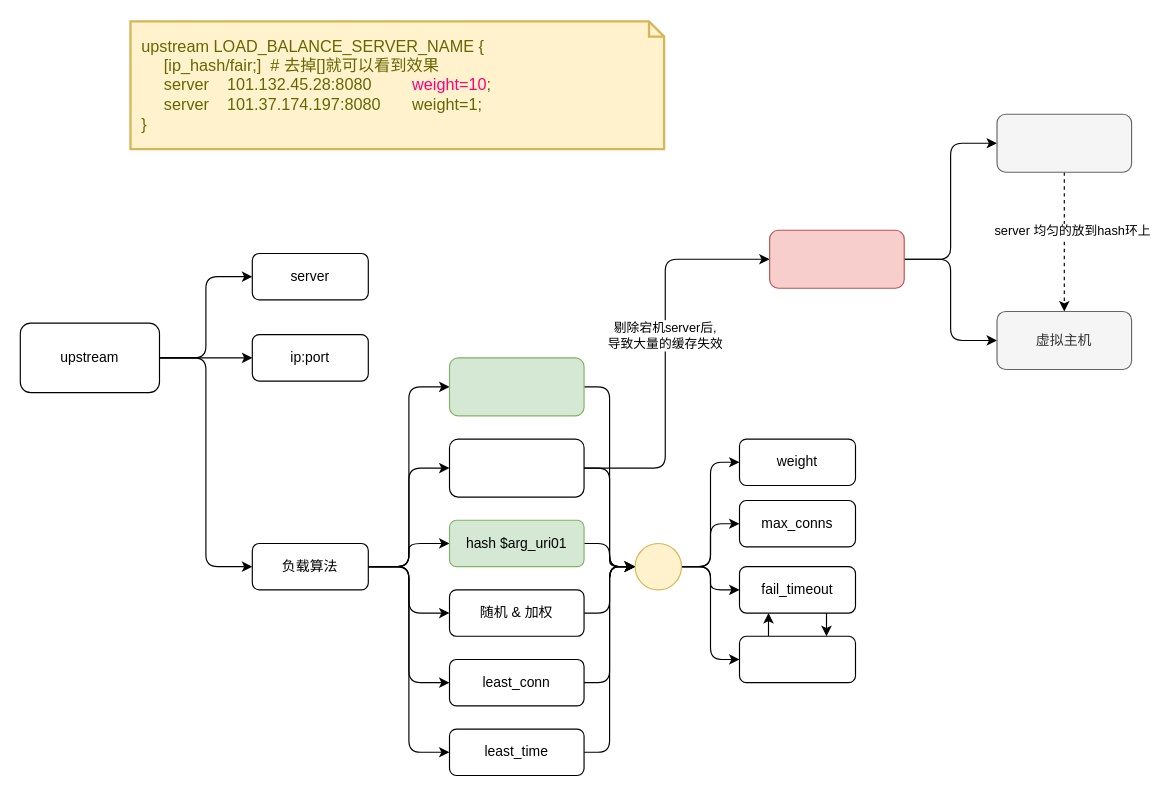
Some shapes in this 1169 by 796 pixel diagram are drawn without their labels. The shapes that lost their labels are listed below. From the top down, each one's centre as x and y in pixels, then its label:
point (1064, 142): hash 环: 0~2^32
point (836, 258): Hash 一致性算法
point (516, 386): 轮询 & 加权
point (516, 467): ip_hash 很少使用: 数据倾斜
point (658, 566): 配合
point (796, 659): max_fails
